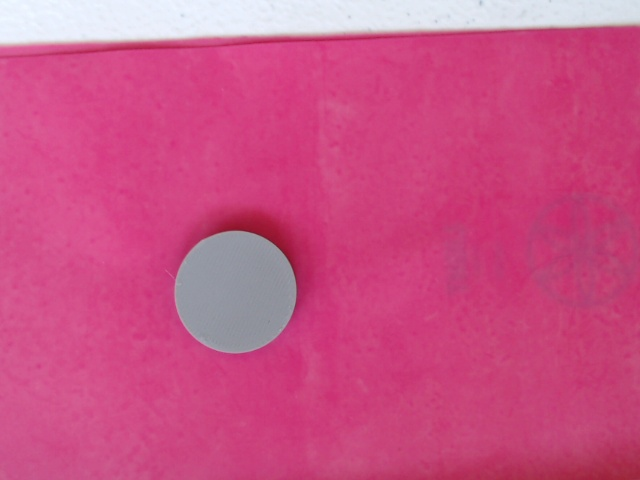NonDefective: (170, 227, 307, 356)
